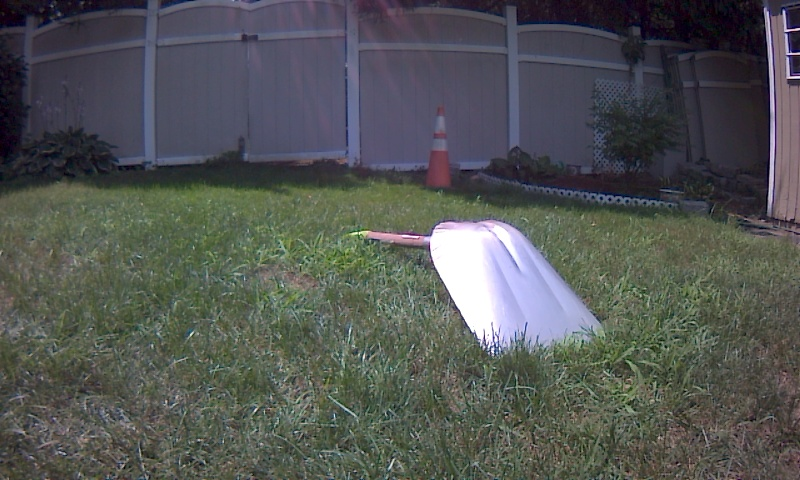shovel: (314, 185, 631, 385)
